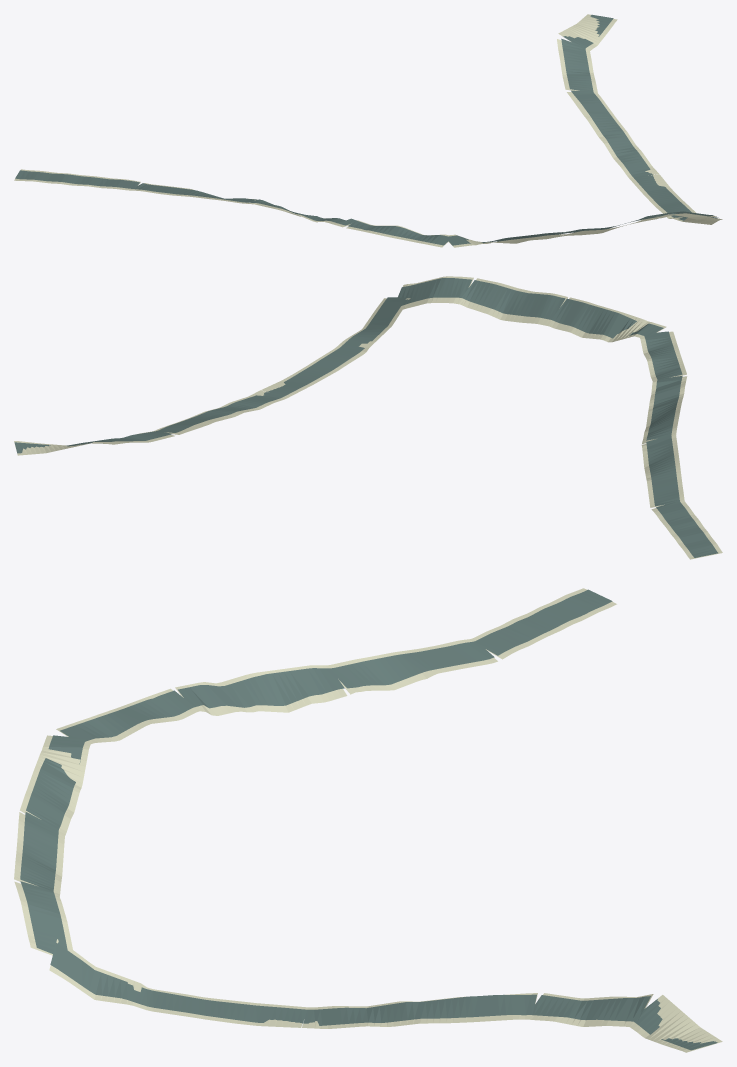
The model's file is Road_02.glb.
3 views of the same model, one above another, from view 1: azimuth 30°, elevation 25°; view 2: azimuth 150°, elevation 25°; view 3: azimuth 270°, elevation 25° (orthographic). The views are drawn at different scales.
Parts seen in each view (by area): view 1: Road_02; view 2: Road_02; view 3: Road_02.
Part boxes in pixels (x1,y1,x2,y2): Road_02: (14, 14, 722, 247); Road_02: (14, 276, 722, 559); Road_02: (14, 588, 722, 1052).
Size of the model in its own units: 108 by 11.21 by 74.5.
